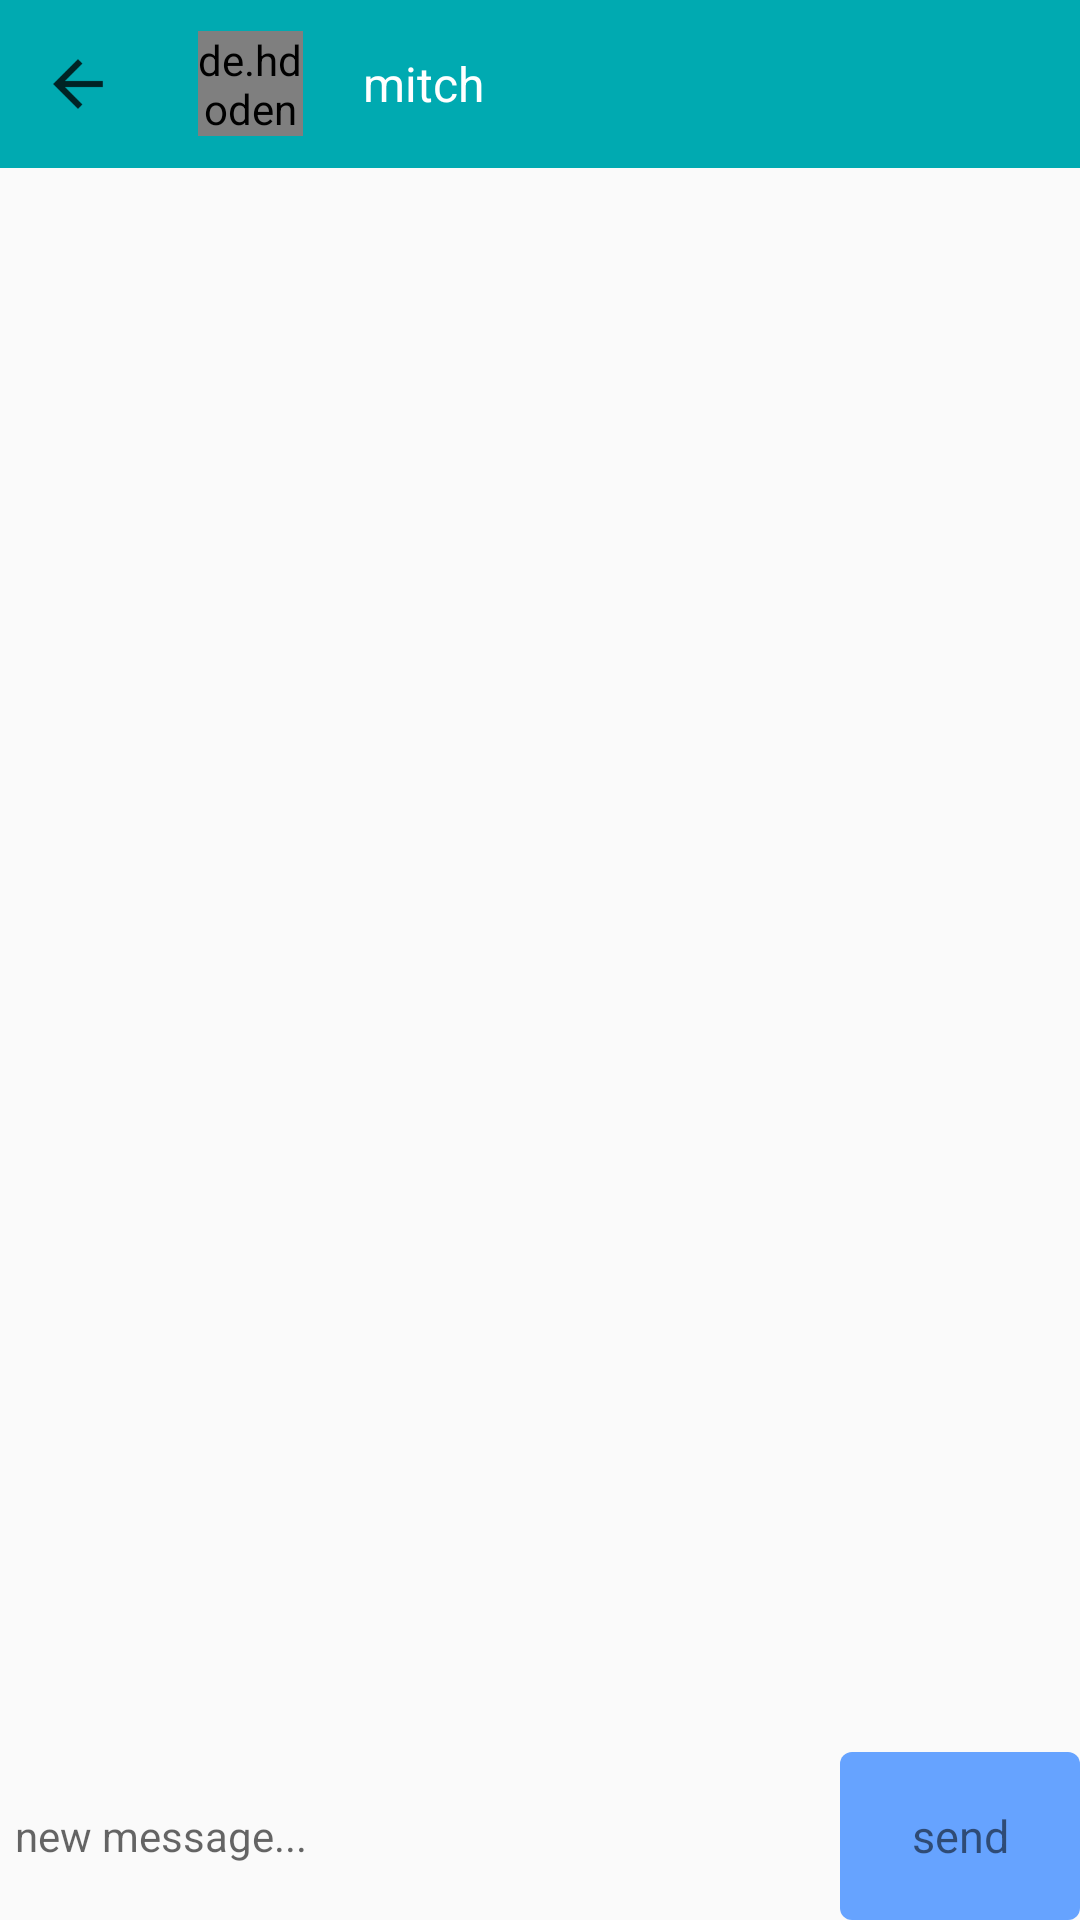

Where to tap for icons on this 1080px x 1920px app screen, as point (x, y):
back arrow: point (78, 84)
